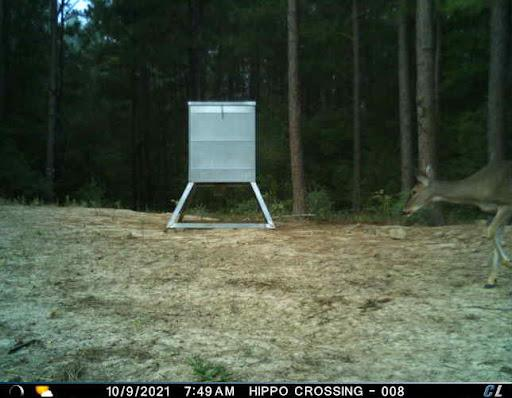Deer: (403, 144, 512, 294)
